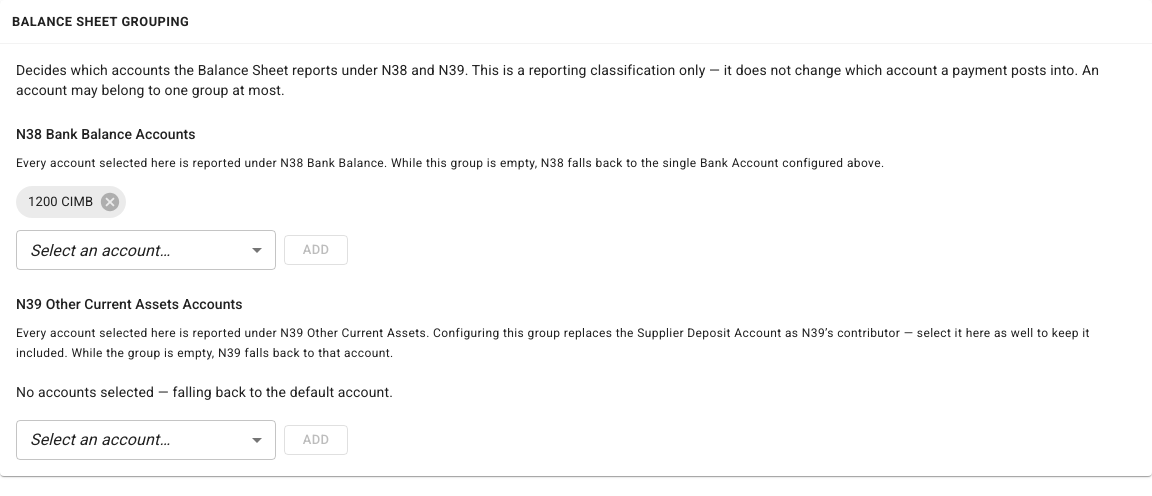
BalanceSheetGroupsSection — removals › a removed account becomes selectable again
This screenshot has width=1152, height=496.
Click the icon with test id "bsg-remove-cimb" at (110, 202), box [99,191,121,213]
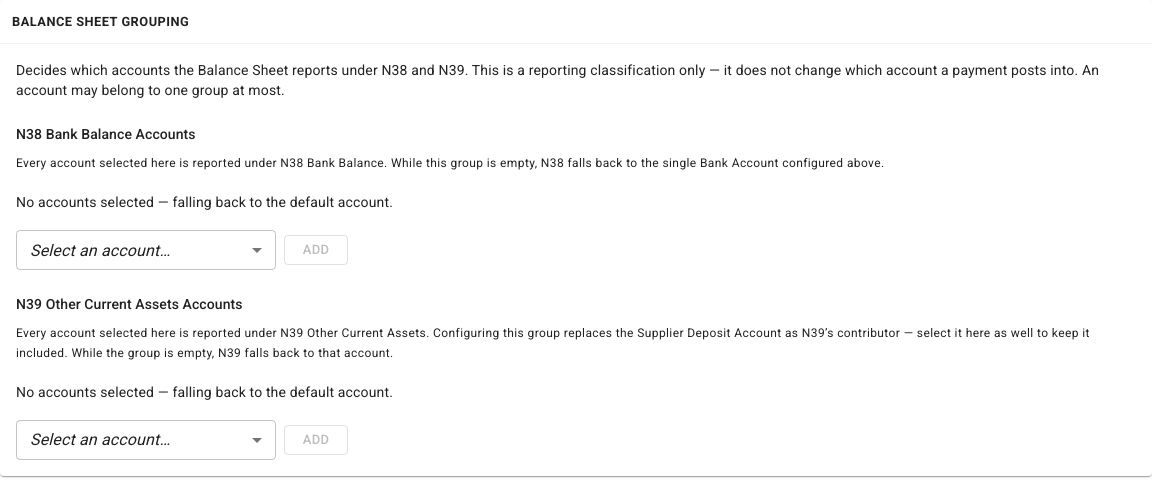
Click the dropdown labelled "Select an account…" below "Bank Balance Accounts" at (100, 250), box [30,241,170,260]
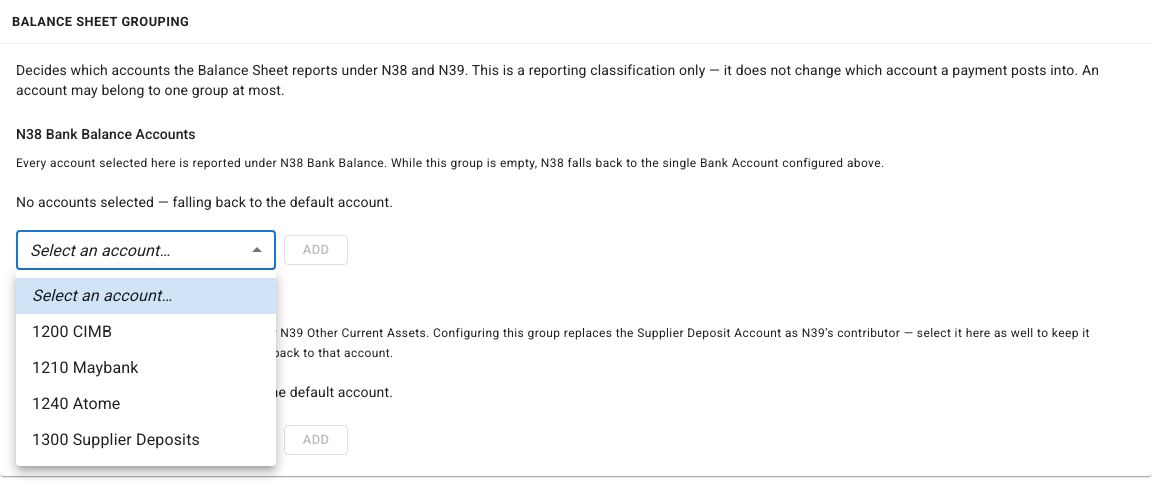
Expected: the option "1200 CIMB" is shown, [32,322,112,341]
